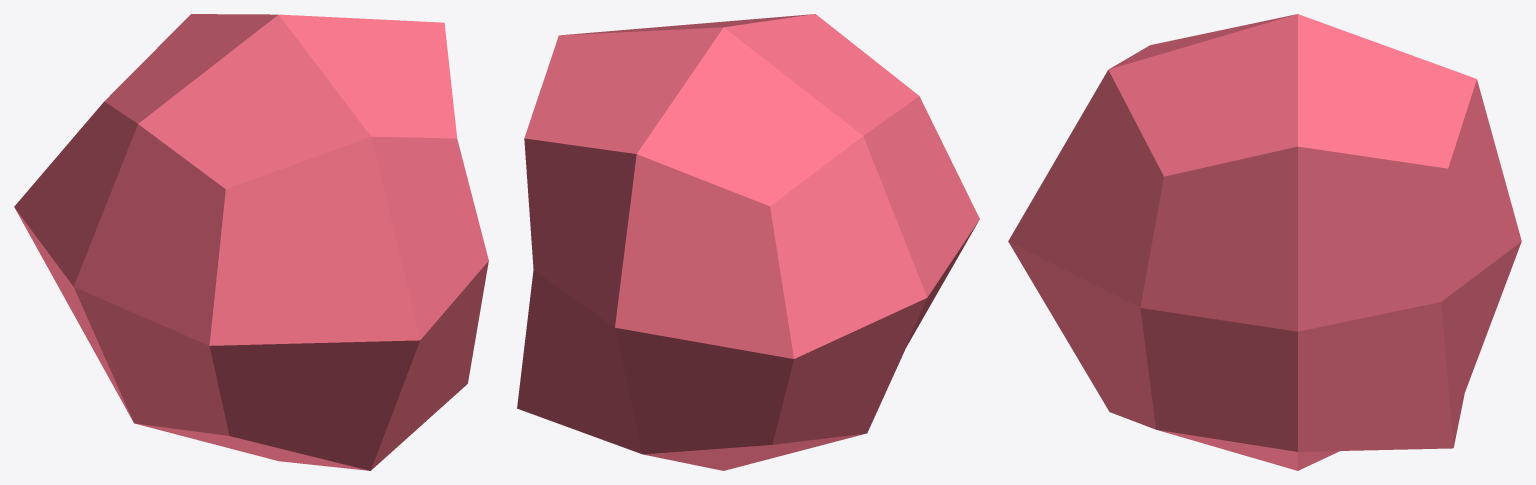
File: asteroid1.glb
3 views of the same model, side by side, from view 1: azimuth 30°, elevation 25°; view 2: azimuth 150°, elevation 25°; view 3: azimuth 270°, elevation 25° (orthographic). The views are drawn at different scales.
Visible parts, largest first — view 1: Cube; view 2: Cube; view 3: Cube.
Boxes of the visible parts, <box> form: Cube: <box>14,14,488,470</box>; Cube: <box>517,14,979,470</box>; Cube: <box>1008,14,1521,470</box>.
Size of the model in its own units: 2.6 by 2.87 by 2.93.
1 material, 1 textured.
